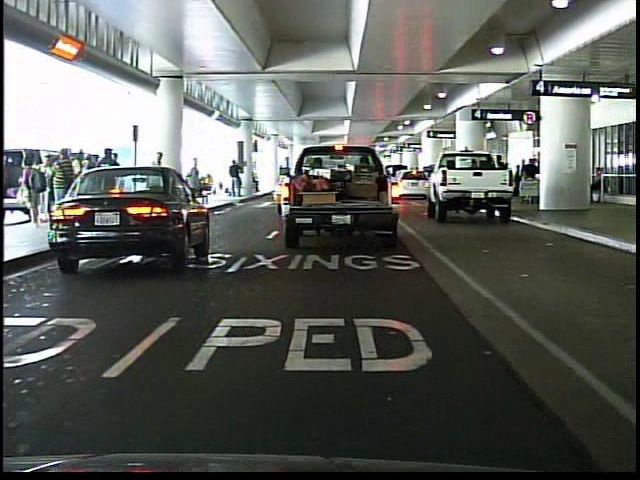person: (146, 149, 170, 224), (185, 155, 207, 224), (228, 160, 246, 200)
